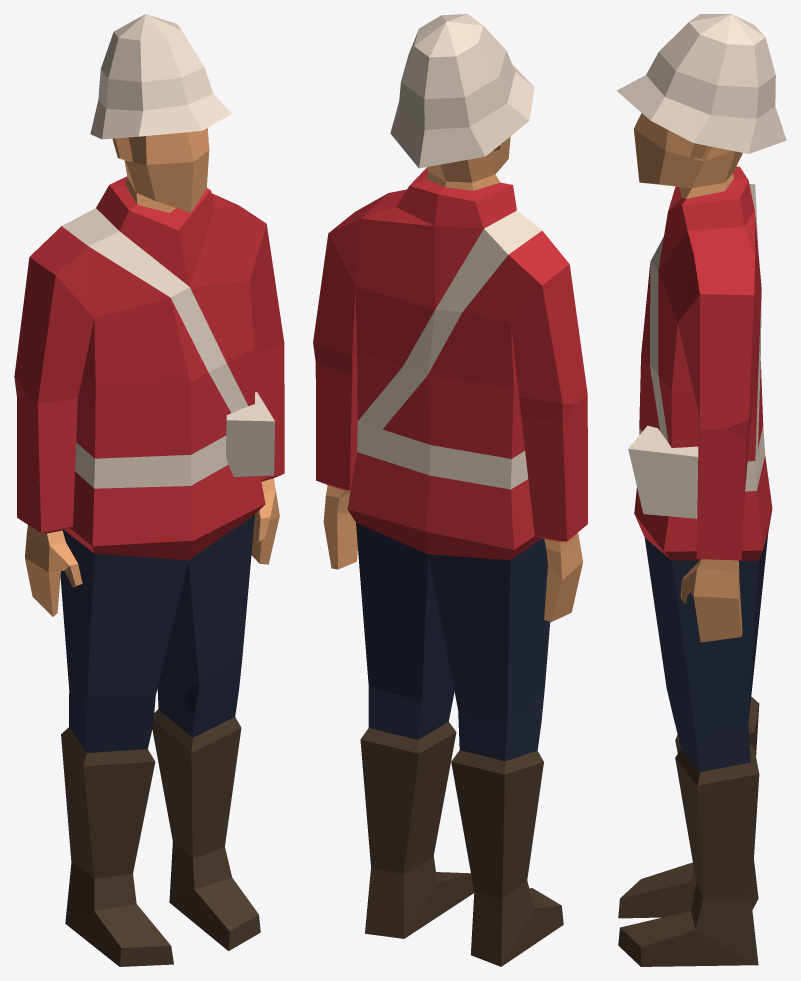
File: man-zulu-uk.glb
3 views of the same model, side by side, from view 1: azimuth 30°, elevation 25°; view 2: azimuth 150°, elevation 25°; view 3: azimuth 270°, elevation 25° (orthographic).
Visible parts, largest first — view 1: man-zulu-uk; view 2: man-zulu-uk; view 3: man-zulu-uk.
Part boxes in pixels (x1,y1,x2,y2): man-zulu-uk: (14,14,284,966); man-zulu-uk: (313,14,587,966); man-zulu-uk: (616,14,786,966).
Bounding box in the file's own units: 0.5439 × 1.9 × 0.3199.
1 material, 1 textured.
